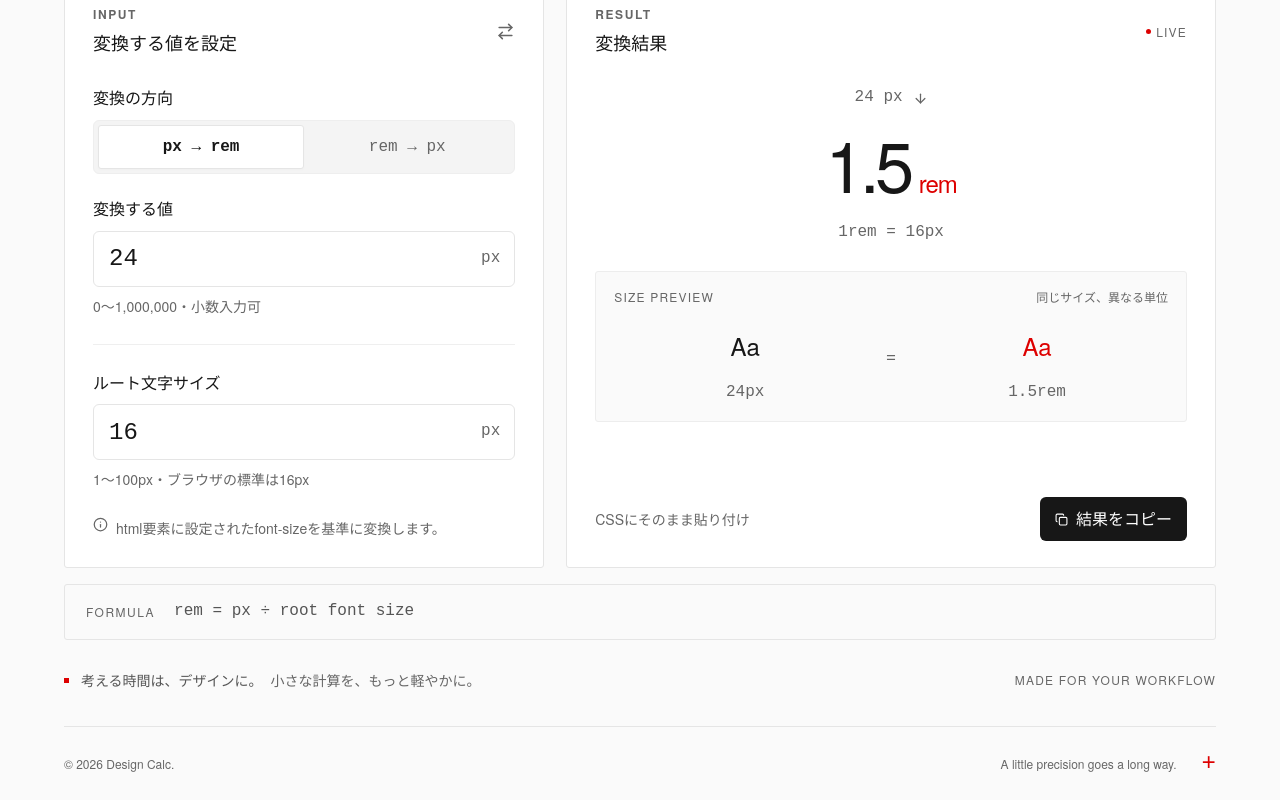
Test: calculator workflows › announces clipboard failure
(page scrolled)
Click the button "結果をコピー".
click(1114, 519)  # box [1040,497,1187,541]
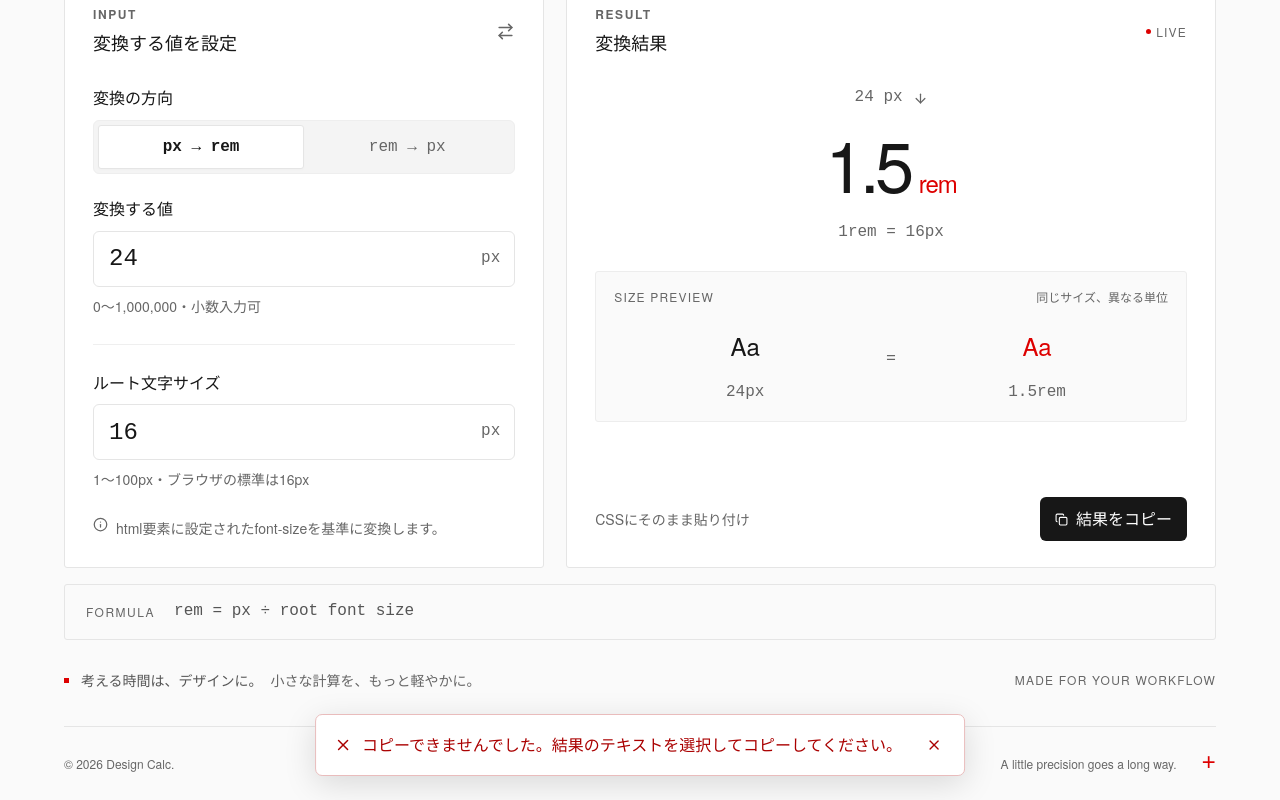
Result: the text "コピーできませんでした。結果のテキストを選択してコピーしてください。" is shown at [362,731,902,759]
